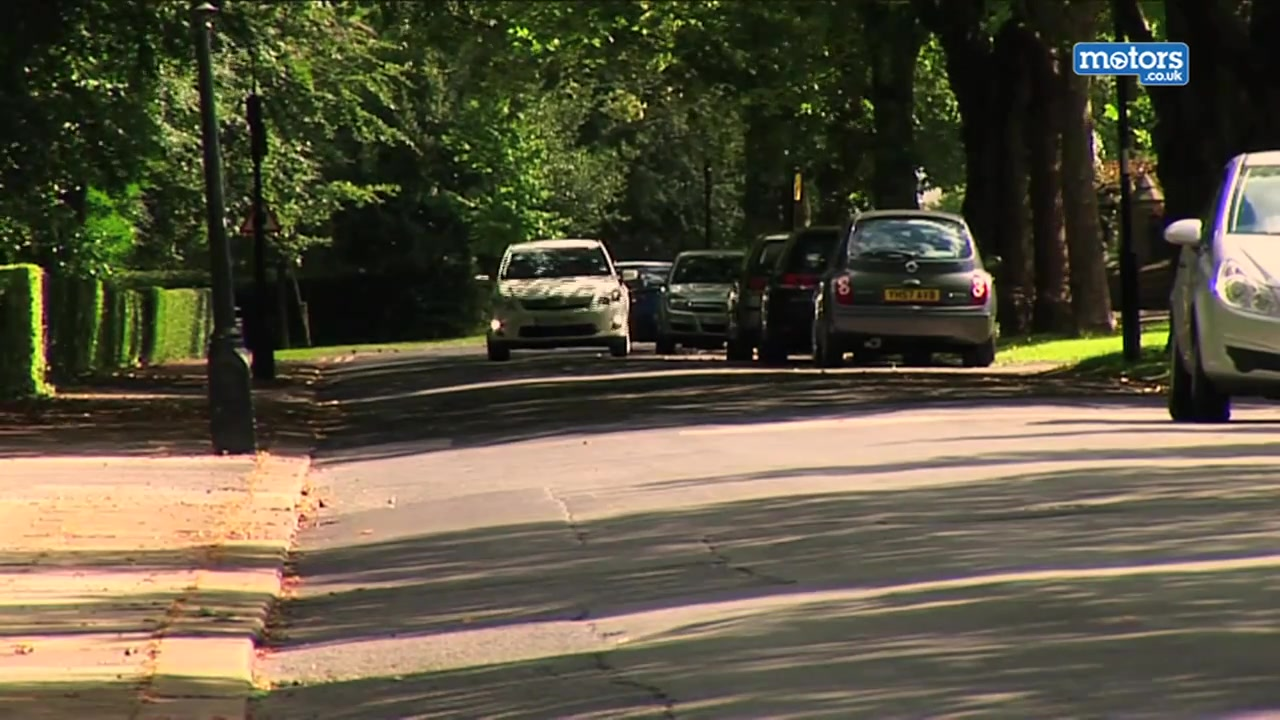car: (1157, 147, 1280, 429), (812, 211, 1010, 367), (469, 240, 636, 361), (647, 246, 750, 354), (768, 228, 844, 359), (724, 229, 786, 369), (611, 261, 661, 330)
